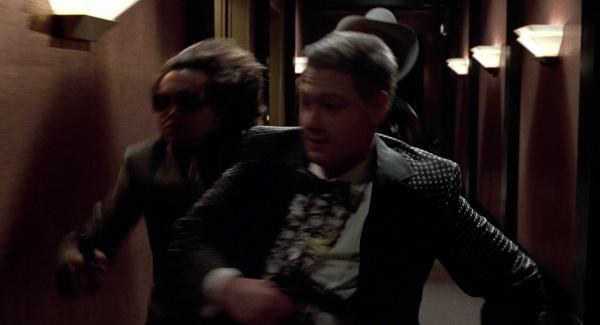Gun: (270, 267, 356, 324)
